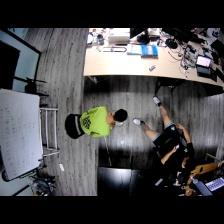normal: (135, 95, 191, 168), (81, 106, 128, 138)
